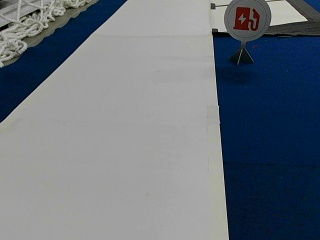battery: (223, 0, 270, 41)
